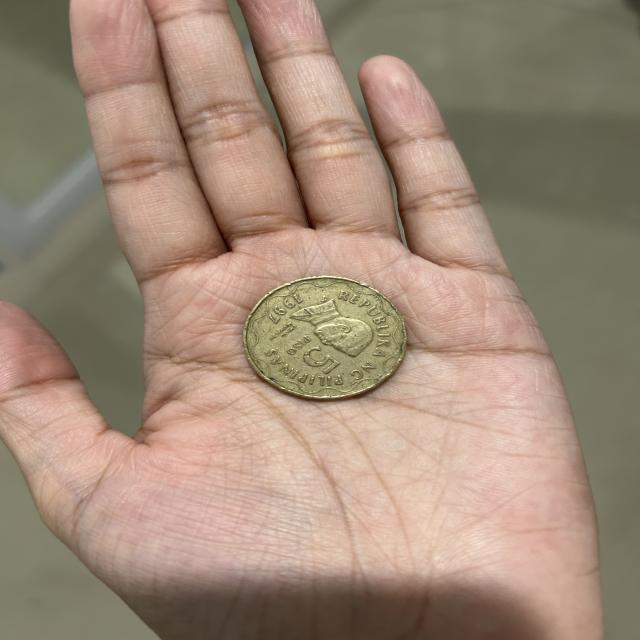5_Old_Front: (274, 332, 340, 381)
